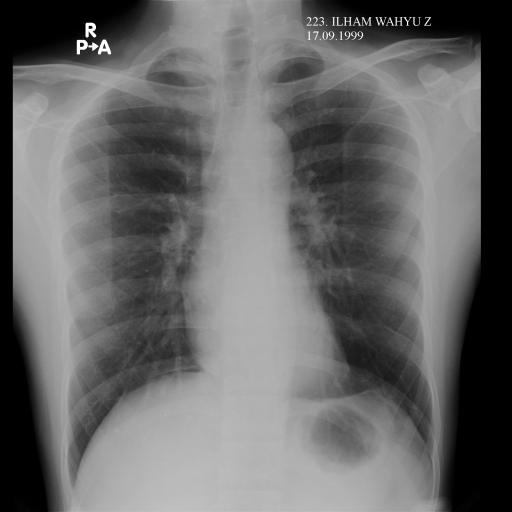normal: (45, 19, 459, 488)
